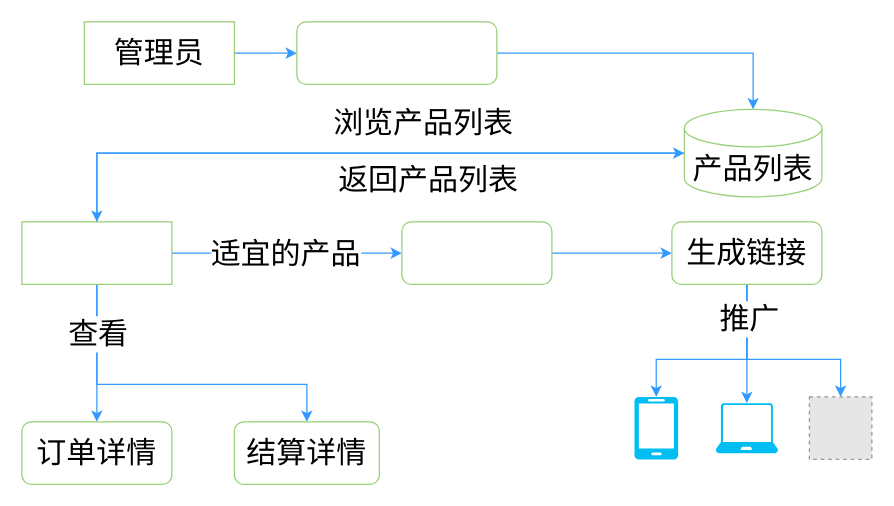
This 894x506 diagram has some shape labels left out. Grey dashed boxes stand in for pictures. The box of each missing label's shape, as (x1, y1, x2, y2) in pixels:
广告产品上传: (296, 21, 497, 84)
用户: (21, 221, 172, 284)
获取产品: (401, 221, 552, 284)
